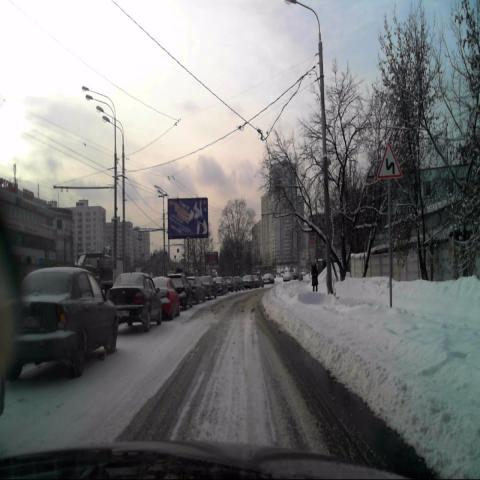1_12_2: (378, 140, 400, 179)
